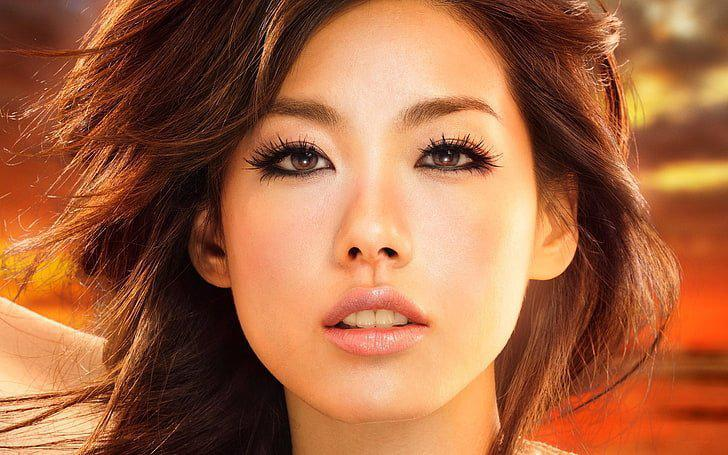Sober: (234, 41, 516, 386)
